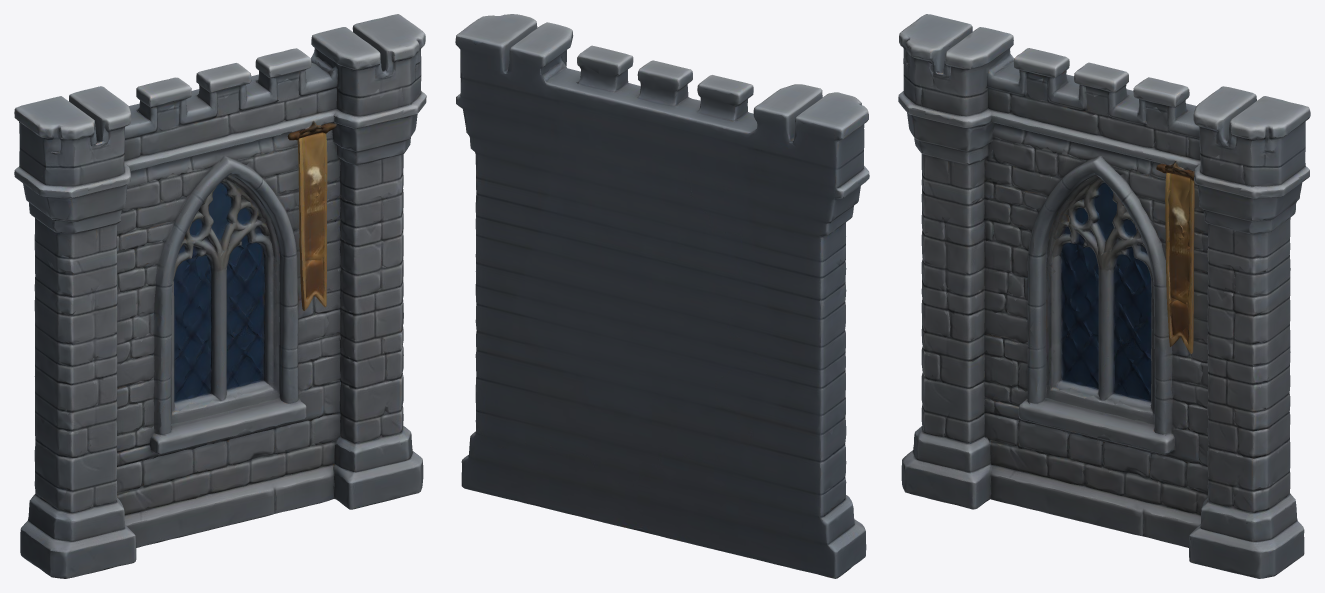
File: bay_gothic.glb
3 views of the same model, side by side, from view 1: azimuth 30°, elevation 25°; view 2: azimuth 150°, elevation 25°; view 3: azimuth 330°, elevation 25° (orthographic).
Visible parts, largest first — view 1: Mesh; view 2: Mesh; view 3: Mesh.
Part boxes in pixels (left/top/right/bottom): Mesh: left=14, top=14, right=426, bottom=578; Mesh: left=455, top=14, right=869, bottom=578; Mesh: left=898, top=14, right=1310, bottom=578.
Size of the model in its own units: 1.71 by 1.9 by 0.2923.
1 material, 1 textured.
